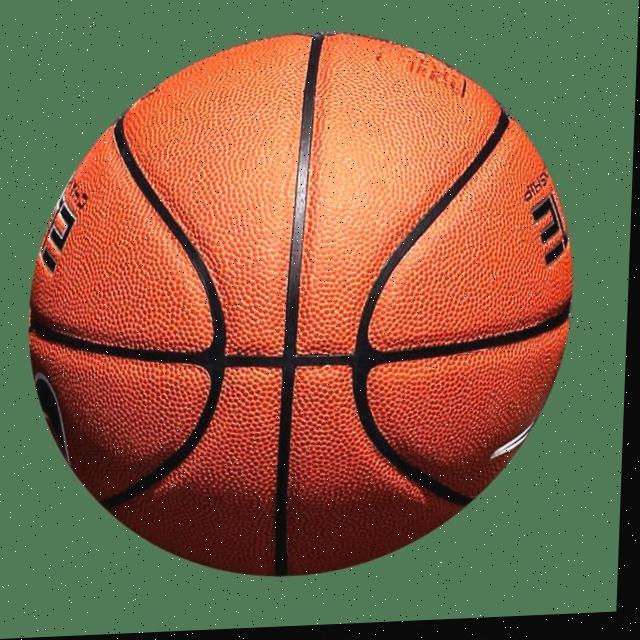Basketball: (18, 21, 583, 589)
